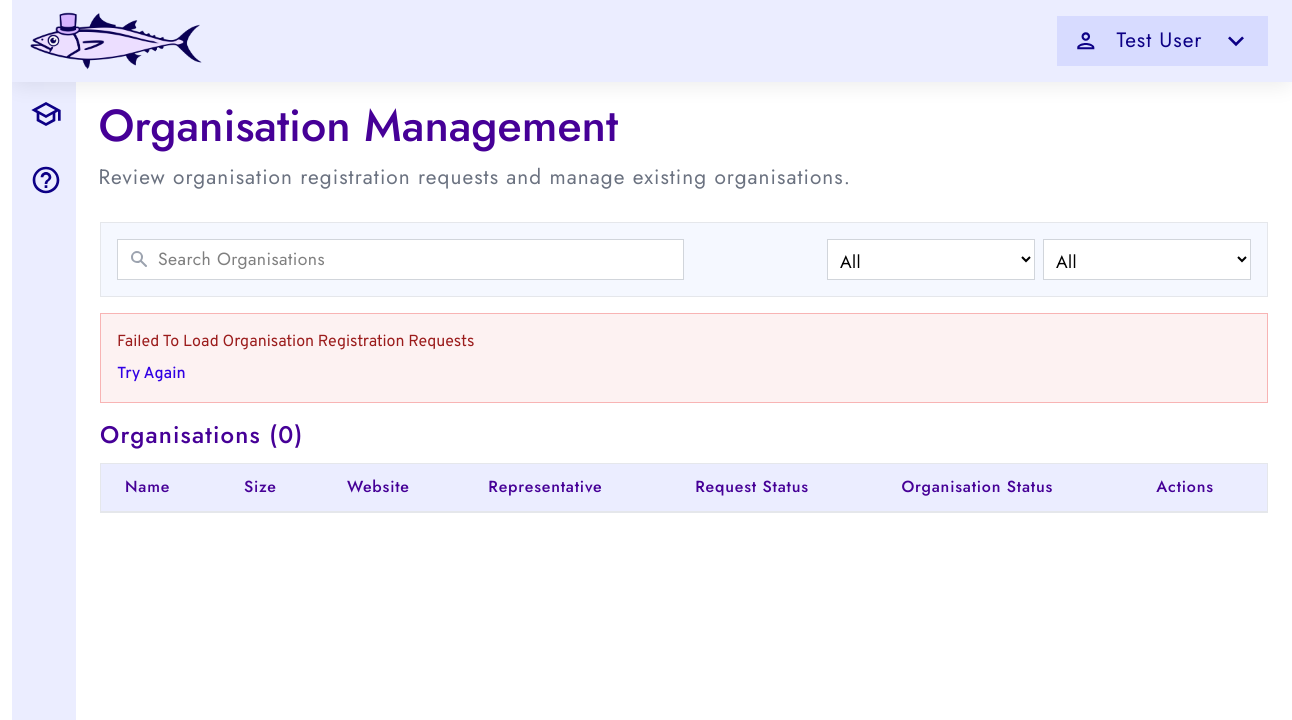
shows load failure and retries the aggregate collection
Click the button "Try Again". click: (151, 374)
box: 117,362 -> 186,386
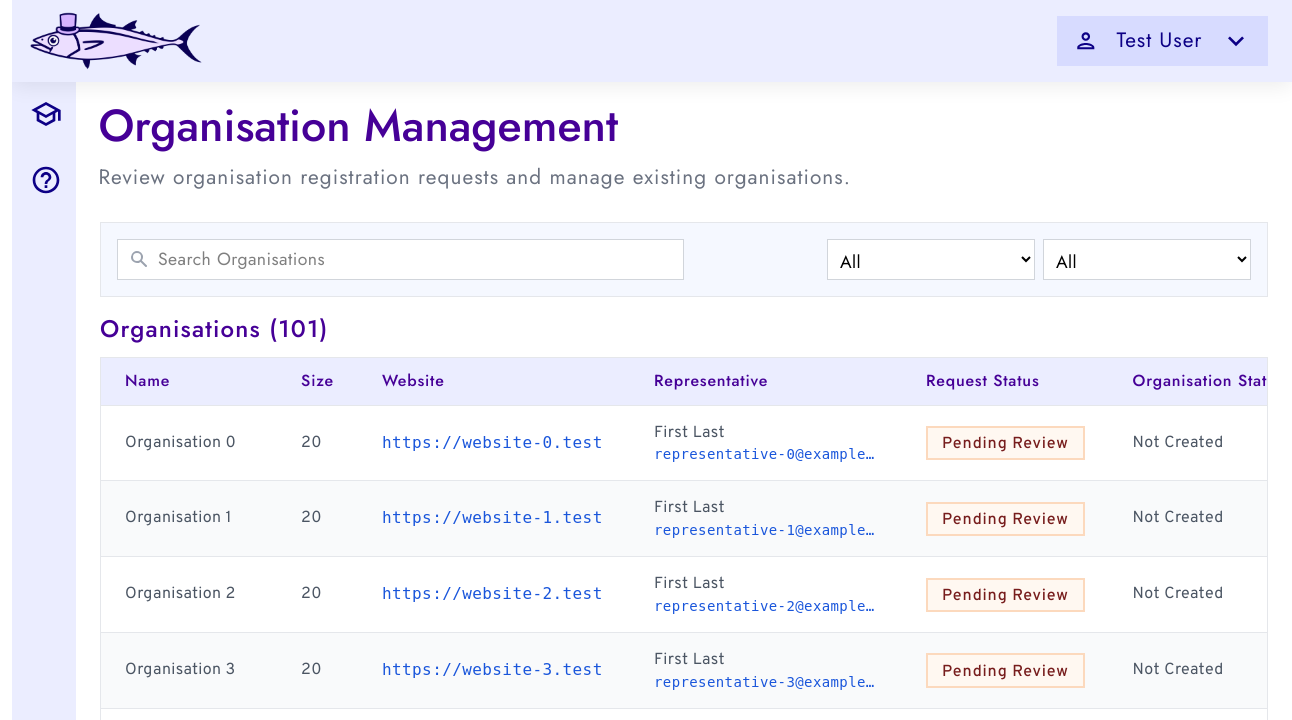
Result: the heading "Organisations (101)" is shown at 100,311 -> 328,346
